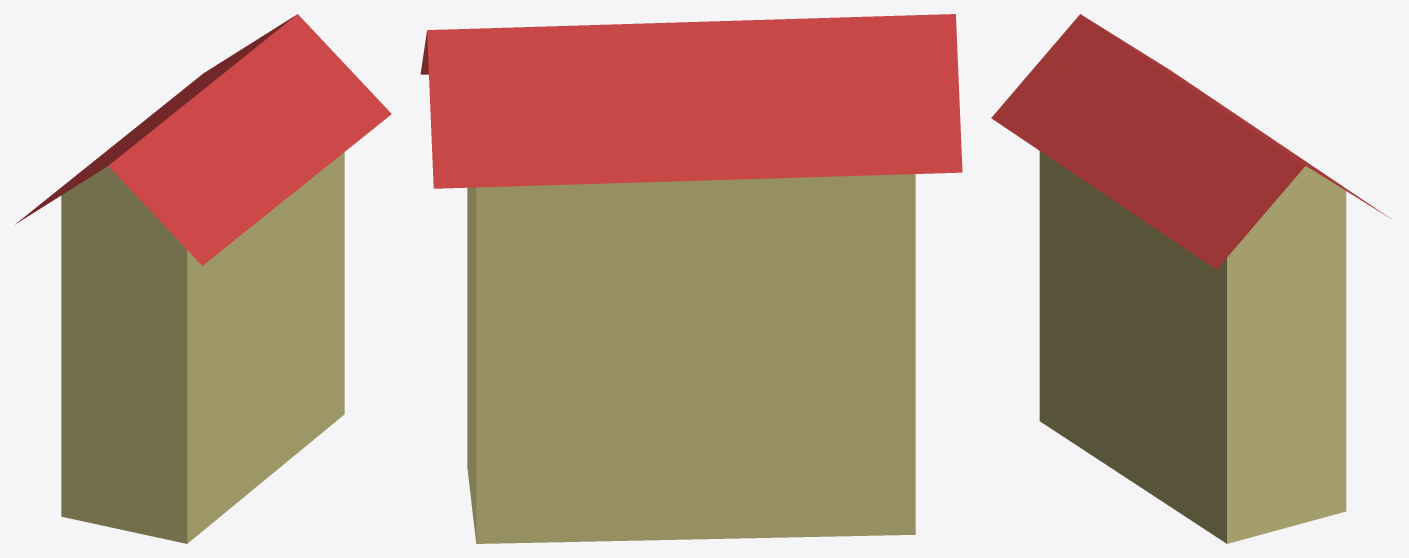
The picture shows the model from 3 angles, left to right: view 1: azimuth 30°, elevation 25°; view 2: azimuth 150°, elevation 25°; view 3: azimuth 270°, elevation 25°; orthographic projection. The views are drawn at different scales.
Bounding box in the file's own units: 6.59 × 5.73 × 5.93.
